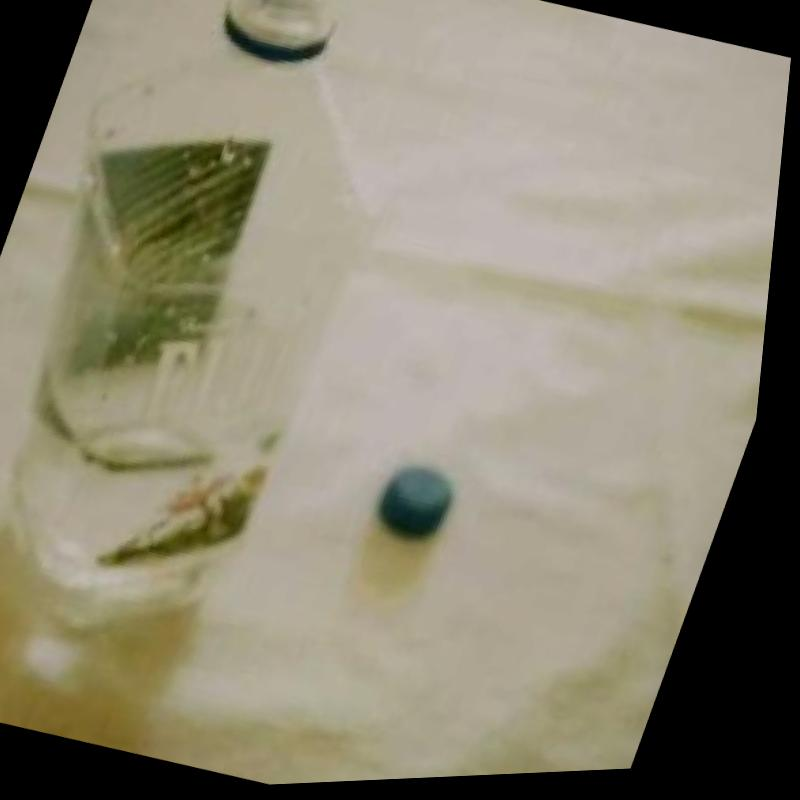botella: (0, 0, 460, 668)
